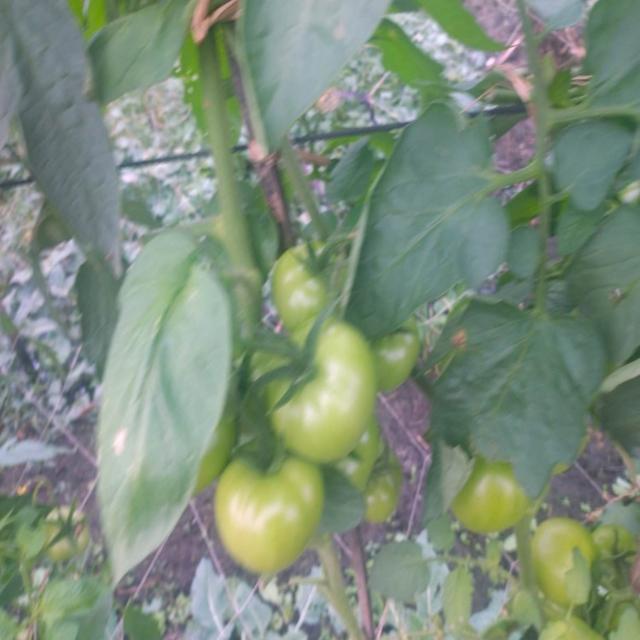tomato: (269, 317, 373, 463), (212, 441, 323, 572), (273, 243, 333, 324), (468, 462, 525, 538), (532, 521, 582, 585), (371, 326, 425, 385), (336, 433, 380, 491), (370, 459, 407, 526), (45, 506, 86, 559), (593, 526, 634, 561)
